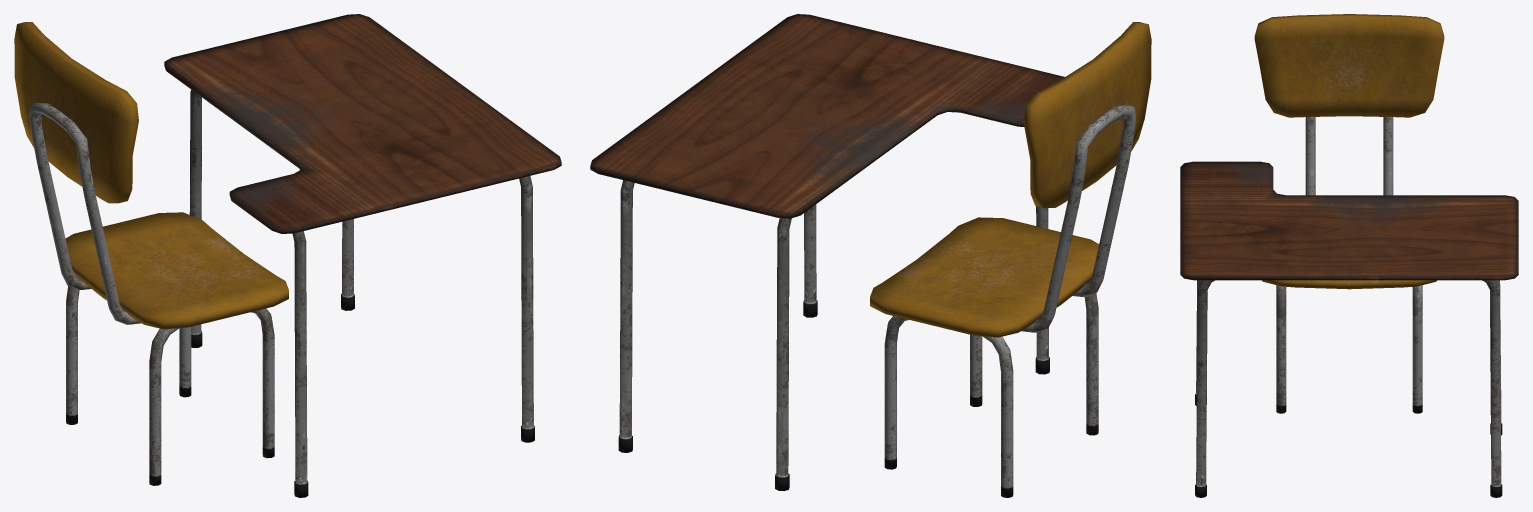
Rendered from desk.gltf.
3 views of the same model, side by side, from view 1: azimuth 30°, elevation 25°; view 2: azimuth 150°, elevation 25°; view 3: azimuth 270°, elevation 25° (orthographic). The views are drawn at different scales.
Visible parts, largest first — view 1: desk_low, chair_low; view 2: desk_low, chair_low; view 3: desk_low, chair_low.
Boxes of the visible parts, x1,y1,x2,y2 form: desk_low: (164,14,561,497); chair_low: (14,22,288,485); desk_low: (590,14,1064,490); chair_low: (870,22,1151,497); desk_low: (1180,161,1518,497); chair_low: (1254,14,1444,413).
Bounding box in the file's own units: 2 × 1.88 × 1.74.
